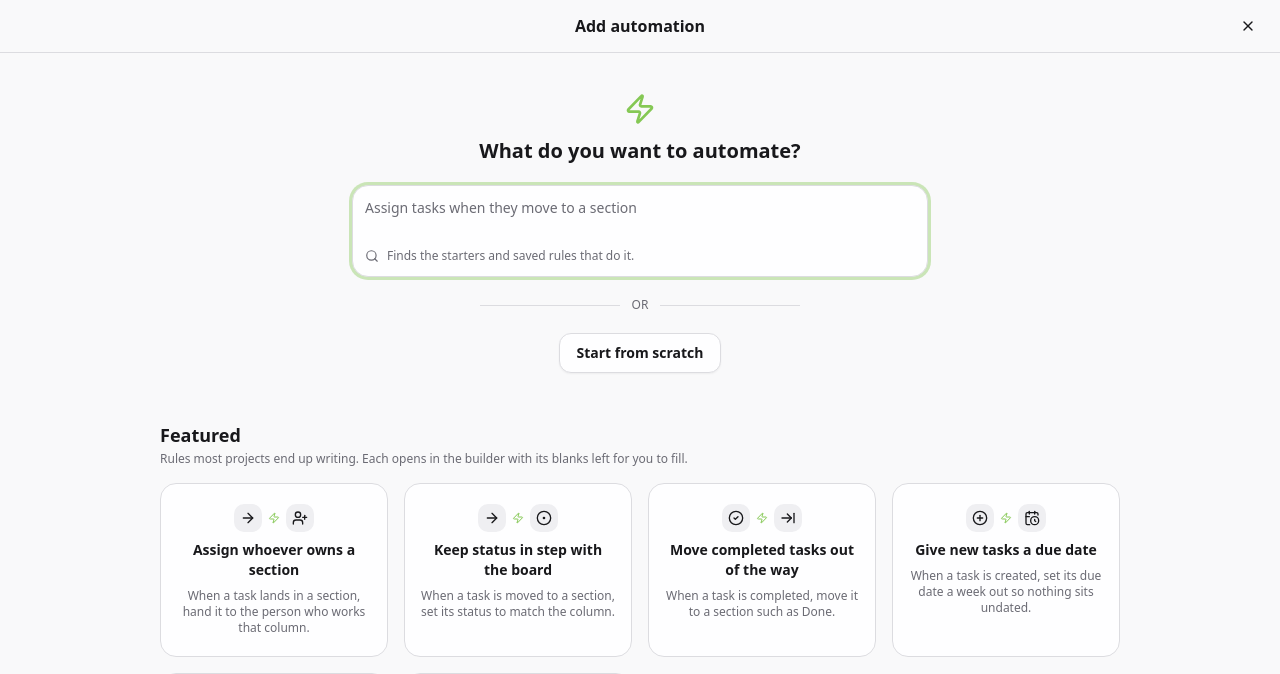
AddAutomationDialog › ranks the gallery by what is typed, and says when nothing does it
In the text box named "What do you want to automate?": (640, 218) [365, 198, 915, 238], type "assign tasks when they move to a section"
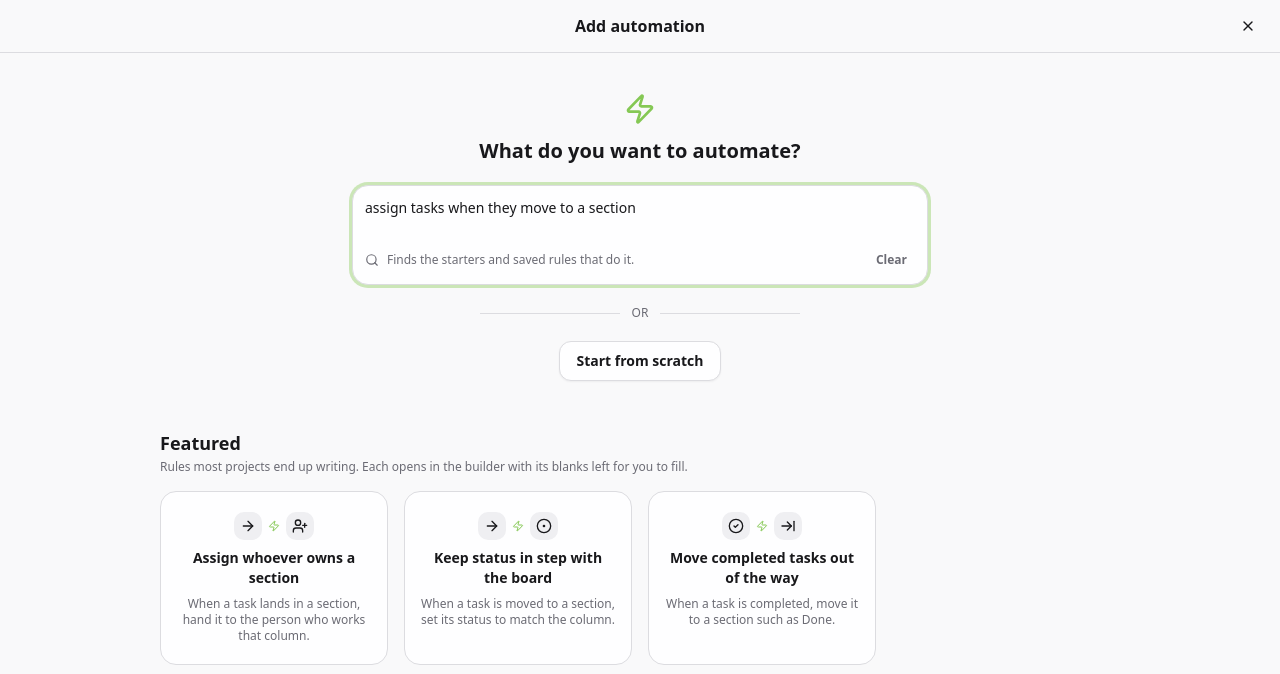
Replace the text in the text box named "What do you want to automate?" with "post to a webhook": (640, 218) [365, 198, 915, 238]
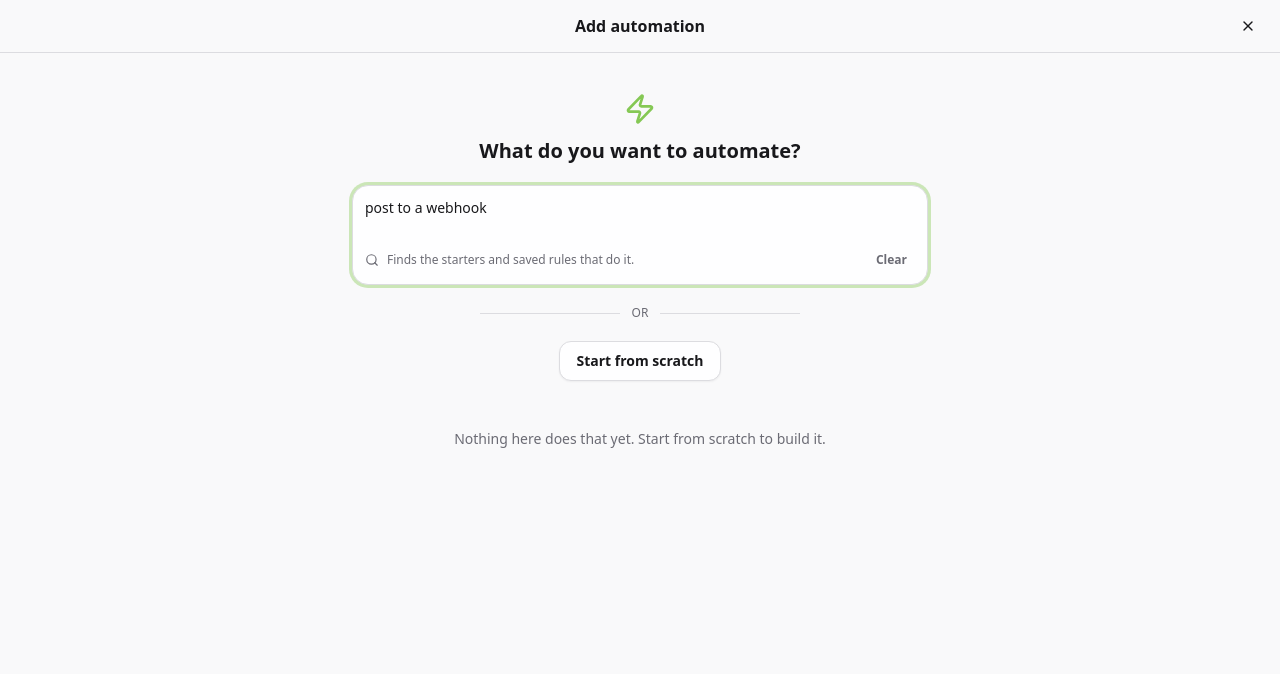
Now the text "Nothing here does that yet. Start from scratch to build it." is shown, box [454, 429, 826, 448]
